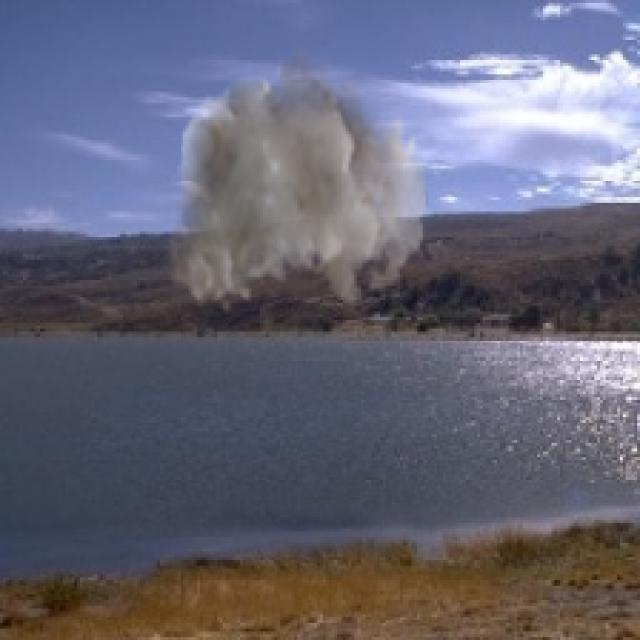smoke: (165, 43, 428, 314)
